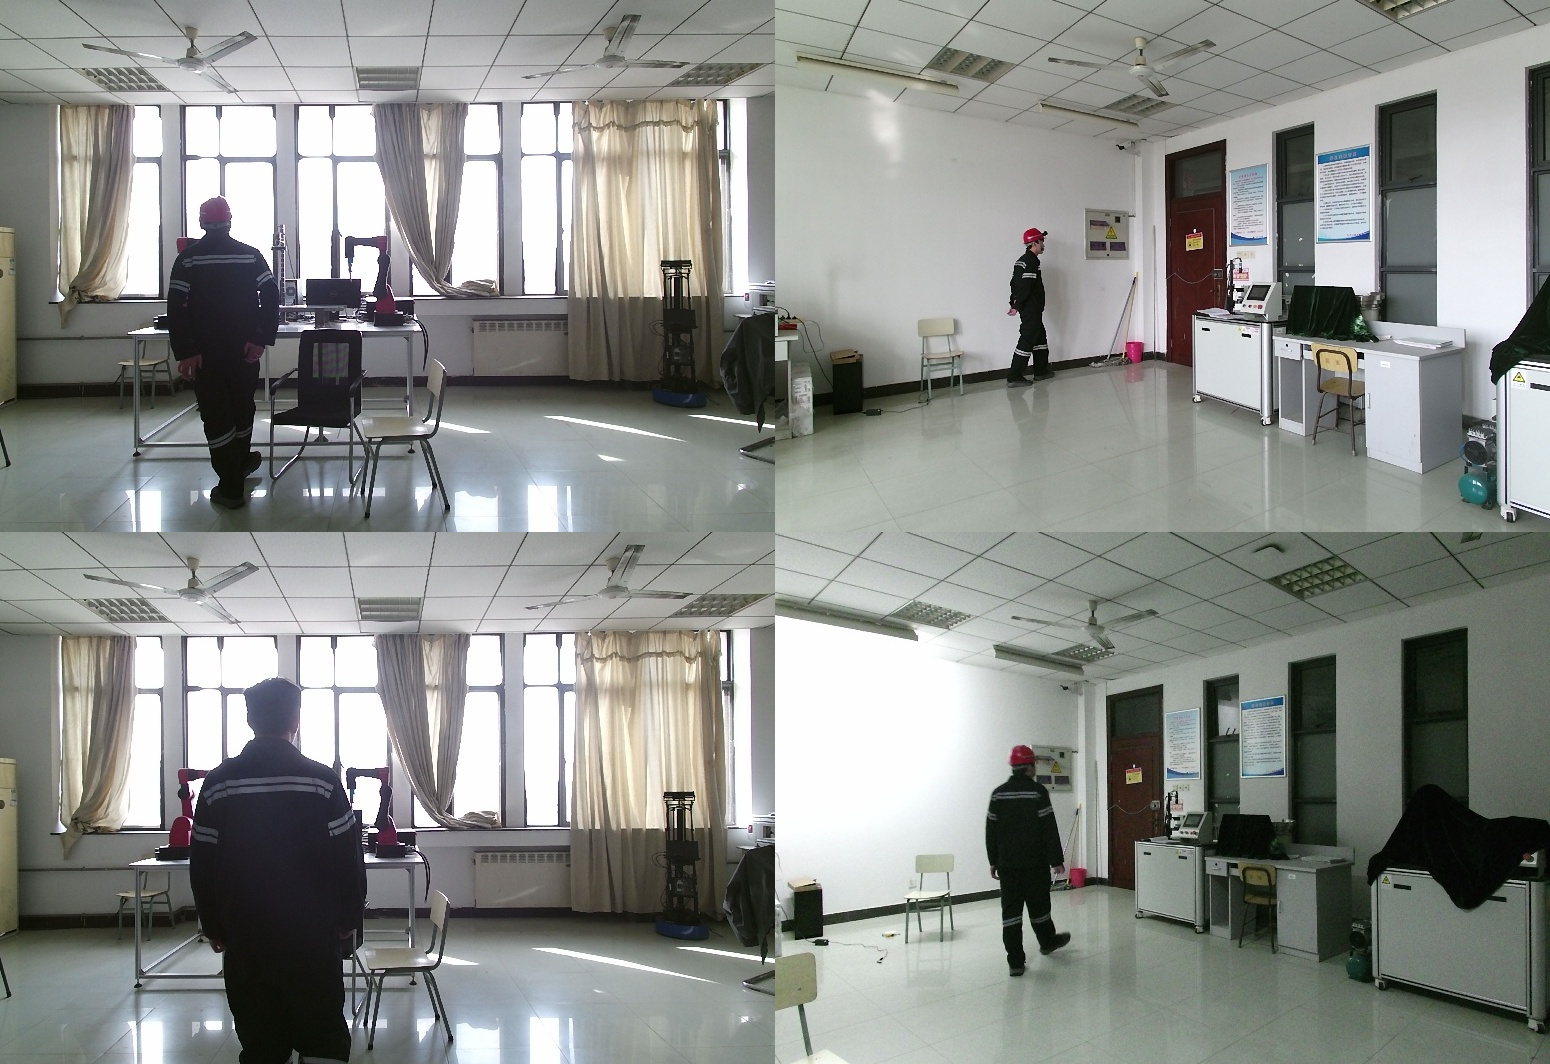person: (192, 679, 370, 1064), (165, 198, 283, 509), (976, 744, 1073, 979), (1007, 232, 1054, 391)
